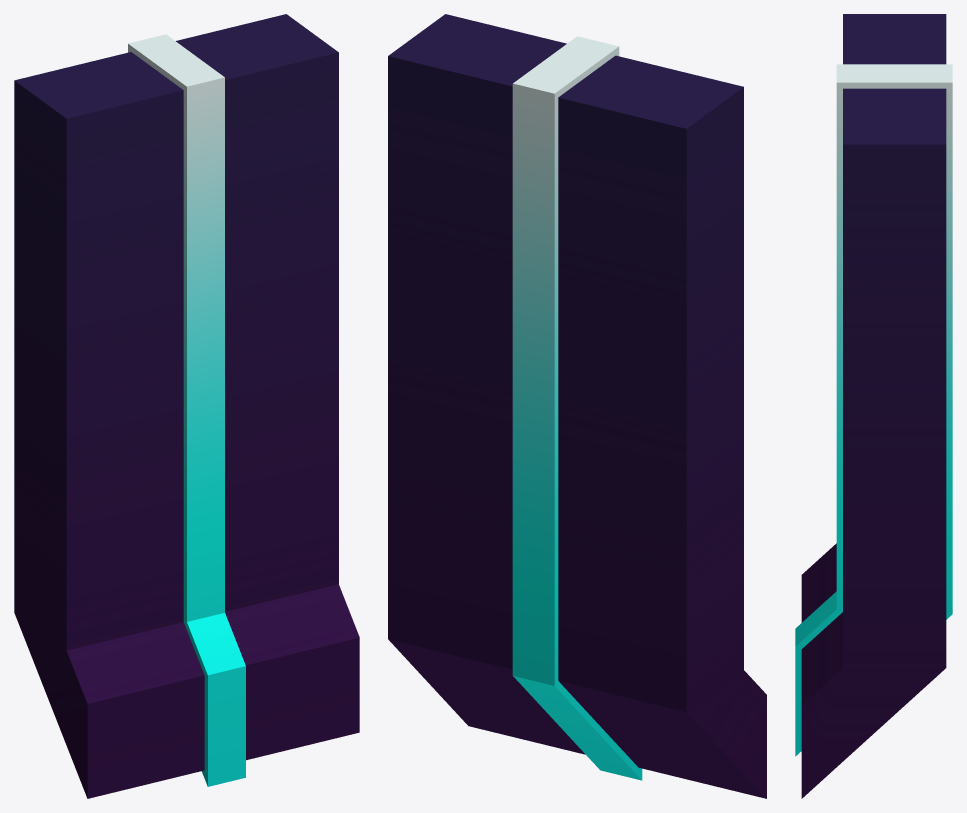
File: SM_Wall_HoloSolid.fbx
The picture shows the model from 3 angles, left to right: view 1: azimuth 30°, elevation 25°; view 2: azimuth 150°, elevation 25°; view 3: azimuth 270°, elevation 25°; orthographic projection. The views are drawn at different scales.
Visible parts, largest first — view 1: SM_Wall_HoloSolid; view 2: SM_Wall_HoloSolid; view 3: SM_Wall_HoloSolid.
Part boxes in pixels (<box>): SM_Wall_HoloSolid: <box>14,14,359,798</box>; SM_Wall_HoloSolid: <box>388,14,766,798</box>; SM_Wall_HoloSolid: <box>795,14,952,798</box>.
Bounding box in the file's own units: 150 × 361 × 76.2.
